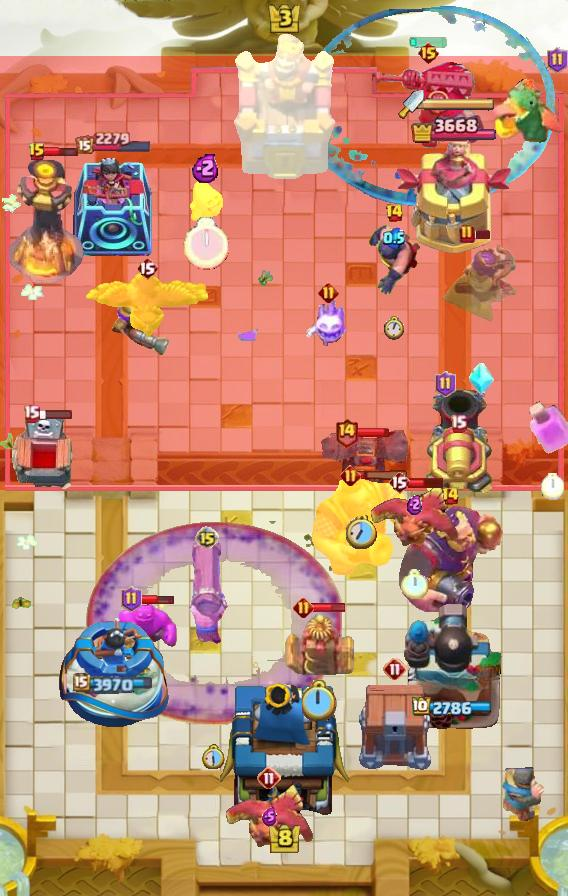archer-evolution: (314, 430, 408, 500)
bar: (394, 142, 512, 256)
barbarian-hut: (438, 239, 524, 325)
bat-evolution: (189, 178, 223, 222)
battle-healer: (184, 541, 230, 645)
bomb: (356, 685, 434, 771)
bomb-tower: (110, 293, 174, 359)
electro-dragon: (8, 157, 86, 283)
electro-spirit: (192, 153, 220, 183), (383, 227, 405, 249), (406, 493, 421, 515), (263, 806, 277, 825)
electro-wizard: (492, 74, 568, 148)
elixir: (183, 217, 229, 270), (302, 679, 337, 721), (347, 515, 377, 549), (400, 569, 427, 599), (540, 473, 564, 500), (202, 744, 226, 770), (384, 316, 404, 340)
elixir-golem-mid: (9, 412, 79, 498)
emote: (358, 470, 410, 482), (407, 475, 445, 488), (44, 146, 80, 159), (37, 408, 73, 420), (139, 595, 175, 606), (311, 602, 346, 613), (356, 427, 390, 438), (472, 229, 492, 240)
firecracker: (500, 767, 544, 822)
giant-skeleton: (308, 476, 420, 578)
goblin-brawler: (284, 610, 354, 678)
ice-spirit: (407, 37, 449, 49)
inferno-tower: (370, 62, 486, 150)
king-tower: (219, 678, 349, 826), (231, 35, 337, 182)
king-tower-bar: (424, 97, 496, 111)
knight-evolution: (529, 402, 568, 455)
lightning: (394, 502, 505, 614)
mirror: (304, 300, 352, 348)
monk: (366, 222, 422, 296)
mother-witch: (83, 271, 211, 343), (366, 484, 462, 552), (221, 785, 317, 853)
musketeer: (428, 386, 490, 454)
pad_0: (301, 4, 555, 206)
pad_2: (469, 363, 495, 395)
queen-tower: (54, 614, 173, 730), (73, 158, 155, 256)
rocket: (86, 521, 342, 725)
royal-recruit: (422, 425, 494, 499)
selected: (412, 113, 497, 146), (75, 130, 153, 154), (73, 673, 155, 695), (412, 698, 494, 719)
text: (334, 417, 359, 448), (195, 526, 219, 550), (383, 657, 407, 681), (257, 766, 281, 790), (416, 41, 439, 65), (435, 371, 456, 397), (121, 586, 142, 612), (136, 256, 158, 280), (388, 470, 410, 494), (548, 47, 568, 73), (318, 281, 339, 303), (339, 465, 360, 487), (293, 597, 314, 618), (384, 203, 404, 223), (440, 486, 459, 506), (28, 142, 46, 162), (23, 405, 41, 424), (449, 414, 467, 433), (459, 224, 475, 244)
tornado: (116, 603, 178, 649)
tower-bar: (403, 601, 503, 731)
